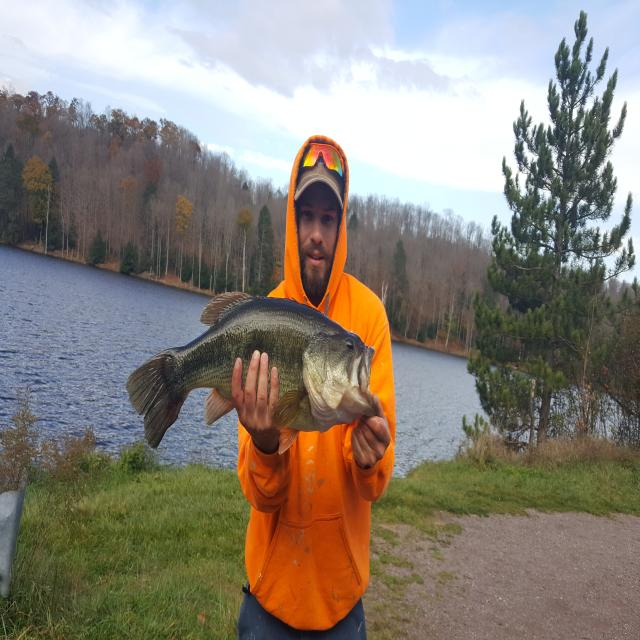Bass - Largemouth: (127, 292, 377, 449)
